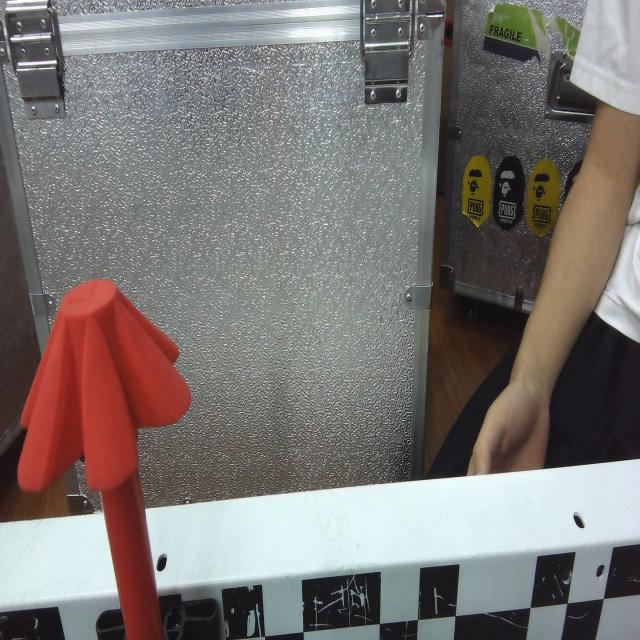zred-Stake-Head: (18, 277, 191, 493)
